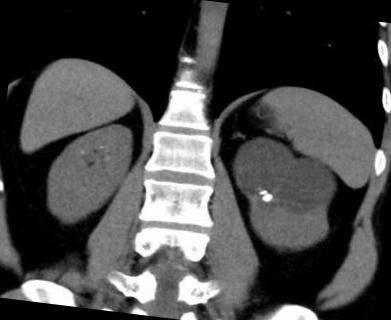Tas_Var: (258, 192, 276, 202), (257, 186, 268, 196), (102, 154, 113, 164), (78, 149, 88, 155), (98, 144, 108, 150)
